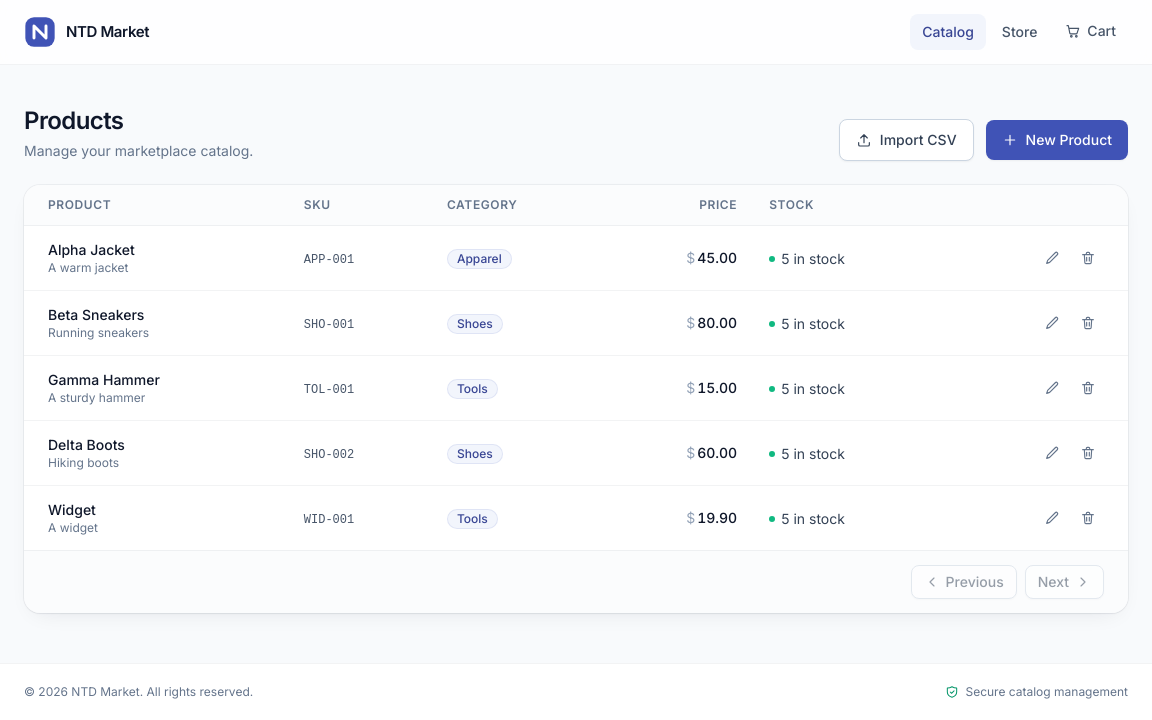
Test: ProductImportPage › is reachable from the catalog via the Import CSV action
Click the link "Import CSV" at coordinates (906, 140), box [839, 119, 974, 161]
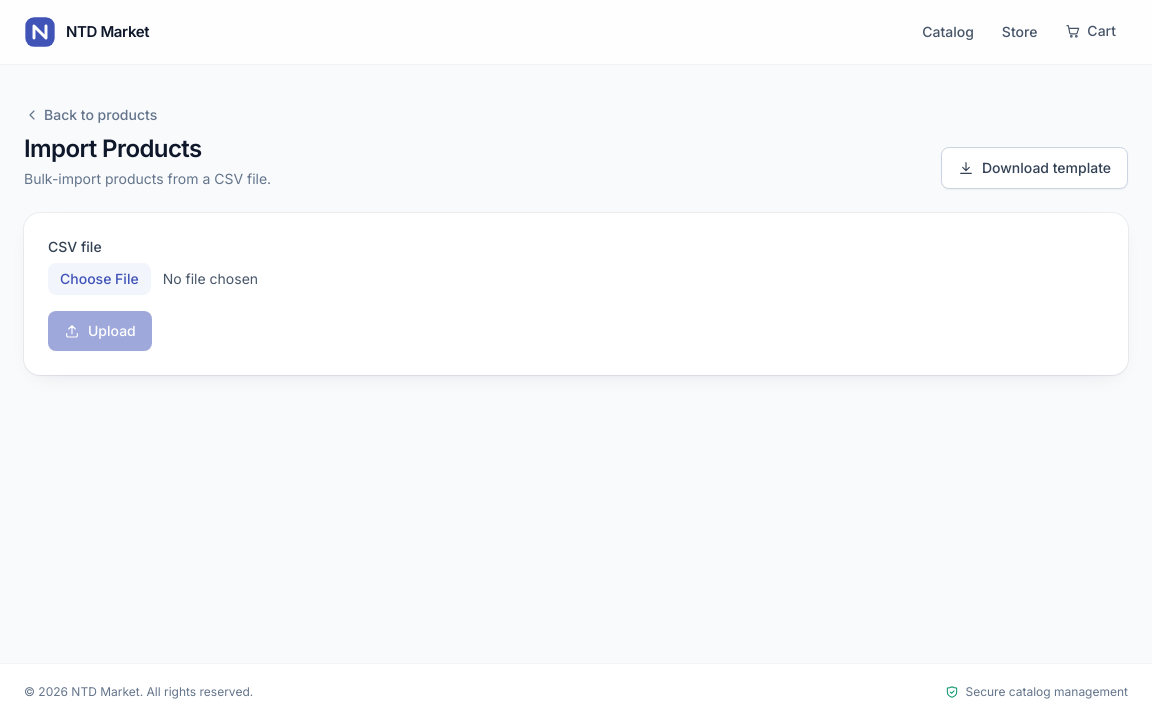
Expected: the heading "Import Products" is shown, [24, 134, 202, 163]
Expected: the file field labelled "CSV file" is shown, [48, 263, 1104, 295]
Expected: the button "Download template" is shown, [941, 147, 1128, 189]
